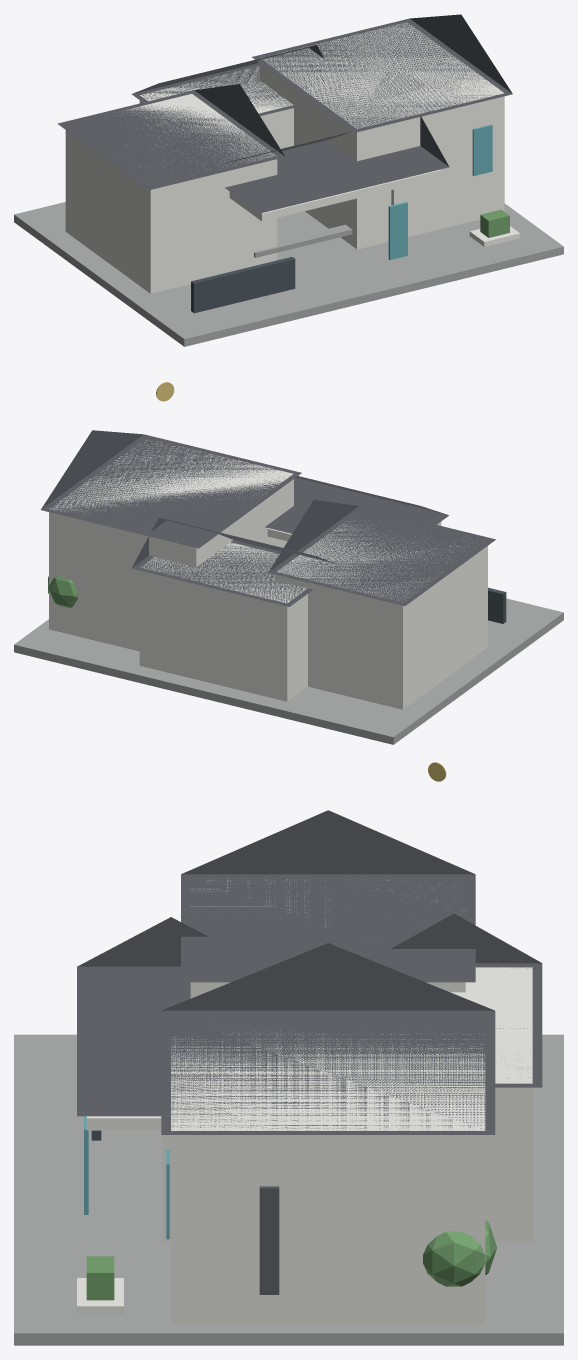
Rendered from pharmacy_cmu_lowpoly_AR_cup_size_upright_FIXED_YUP.glb.
3 renders of one model, top to bottom at view 1: azimuth 30°, elevation 25°; view 2: azimuth 150°, elevation 25°; view 3: azimuth 270°, elevation 25°, orthographic. The views are drawn at different scales.
Visible parts, largest first — view 1: world, RightWing, Base, LeftWing, Sign, RearWing, Canopy, DoorGlass, Step, Window, Plant, Planter; view 2: world, LeftWing, RightWing, RearWing, Base, Sign; view 3: world, RightWing, Base, RearWing, Louver, Plant, Planter, Canopy, LeftWing, Column.
Part boxes in pixels (x1,y1,x2,y2): world: (57, 14, 512, 401); RightWing: (259, 22, 504, 249); Base: (14, 202, 563, 346); LeftWing: (65, 94, 277, 293); Sign: (191, 257, 295, 313); RearWing: (139, 66, 293, 148); Canopy: (229, 169, 441, 221); DoorGlass: (388, 202, 407, 259); Step: (254, 224, 352, 257); Window: (472, 124, 492, 176); Plant: (480, 209, 509, 237); Planter: (469, 226, 520, 246); world: (41, 430, 495, 781); LeftWing: (276, 521, 487, 709); RightWing: (49, 440, 293, 651); RearWing: (139, 542, 307, 701); Base: (14, 598, 563, 744); Sign: (488, 587, 506, 623); world: (77, 810, 542, 1286); RightWing: (171, 1032, 485, 1324); Base: (14, 1034, 563, 1345); RearWing: (450, 967, 532, 1241); Louver: (259, 1186, 279, 1294); Plant: (86, 1256, 114, 1300); Planter: (77, 1278, 123, 1314); Canopy: (86, 1116, 161, 1130); LeftWing: (190, 878, 465, 998); Column: (162, 1135, 170, 1241).
Bounding box in the file's own units: 0.1379 × 0.1 × 0.1063.
